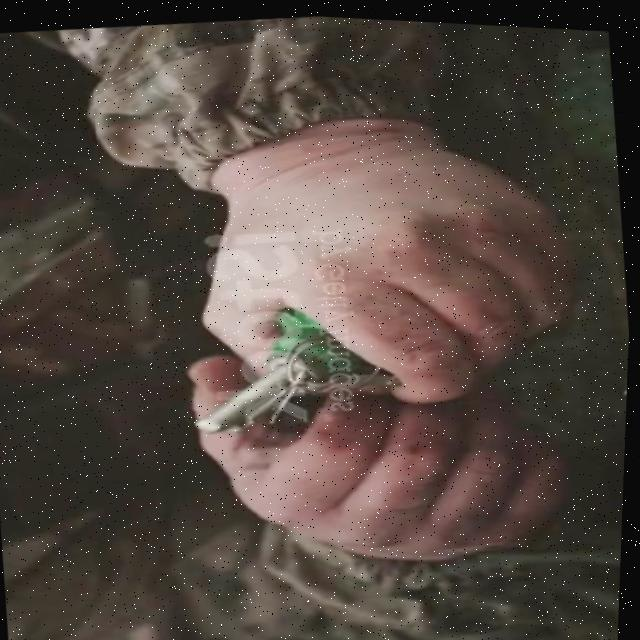grenade: (176, 299, 401, 443)
